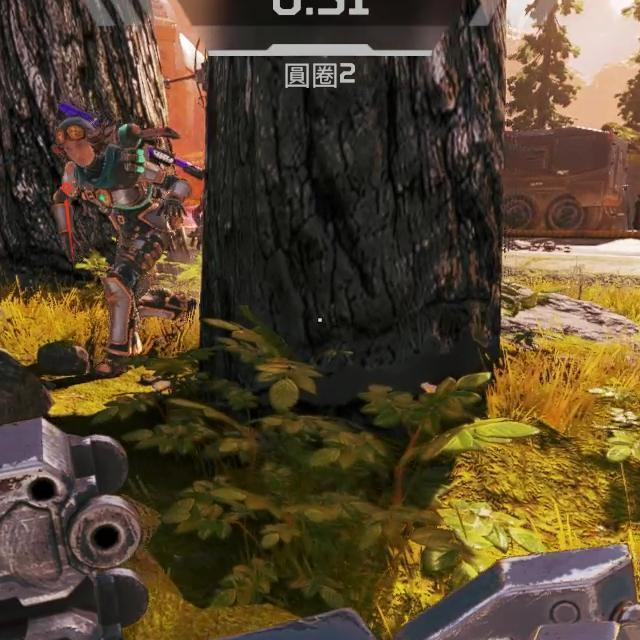avatar: (48, 115, 195, 361)
